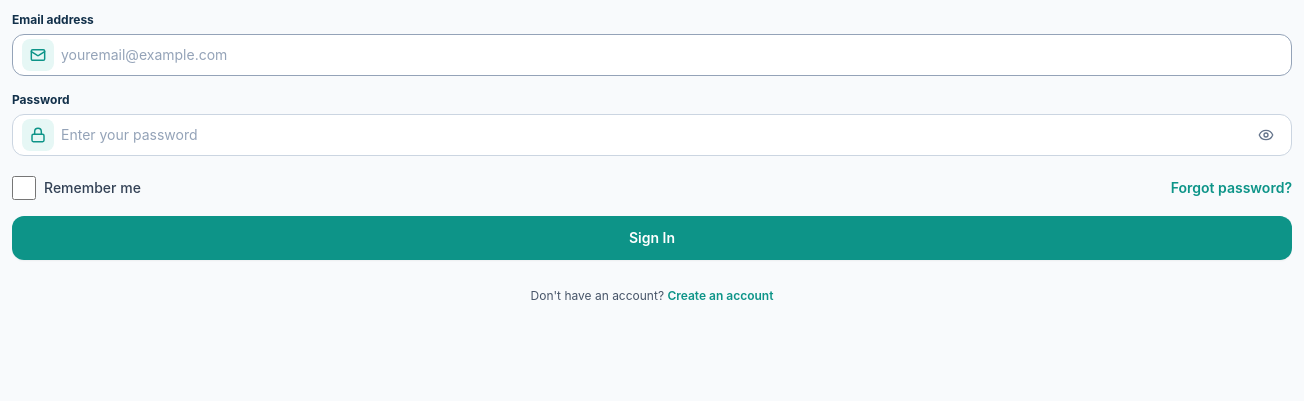
Test: LoginForm Component › displays error alert on invalid credentials
The width and height of the screenshot is (1304, 401).
Check: the button "Sign In" is enabled, box [12,216,1292,260]
Type "patient.juan@example.com" into the field named "email" at (652, 55), box [12,34,1292,76]
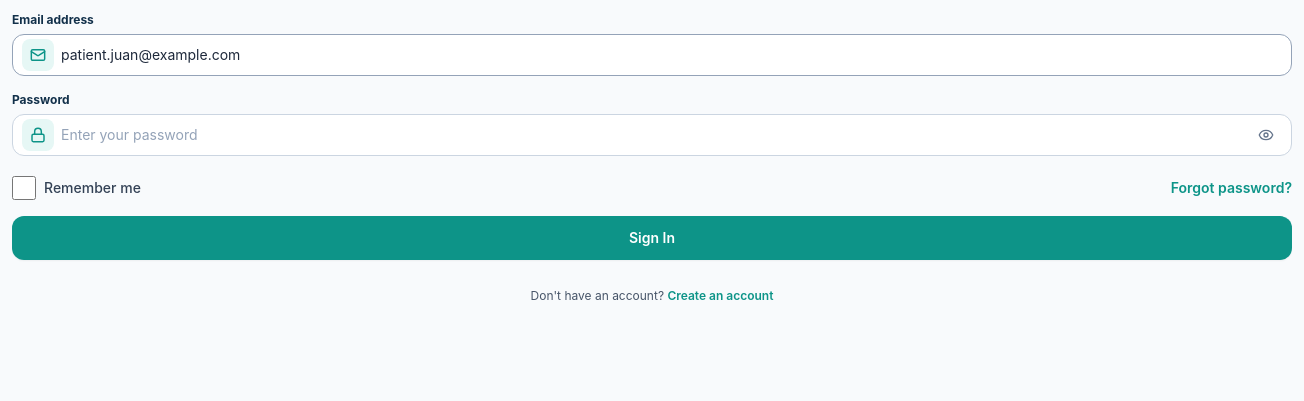
Type "WrongPassword!" into the password field named "password" at (652, 135), box [12,114,1292,156]
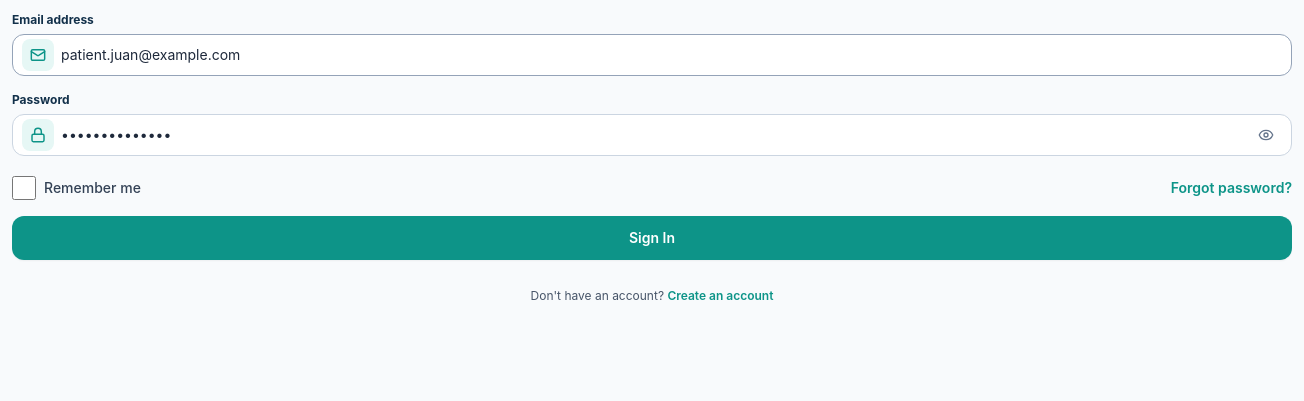
Click the button "Sign In" at (652, 238), box [12,216,1292,260]
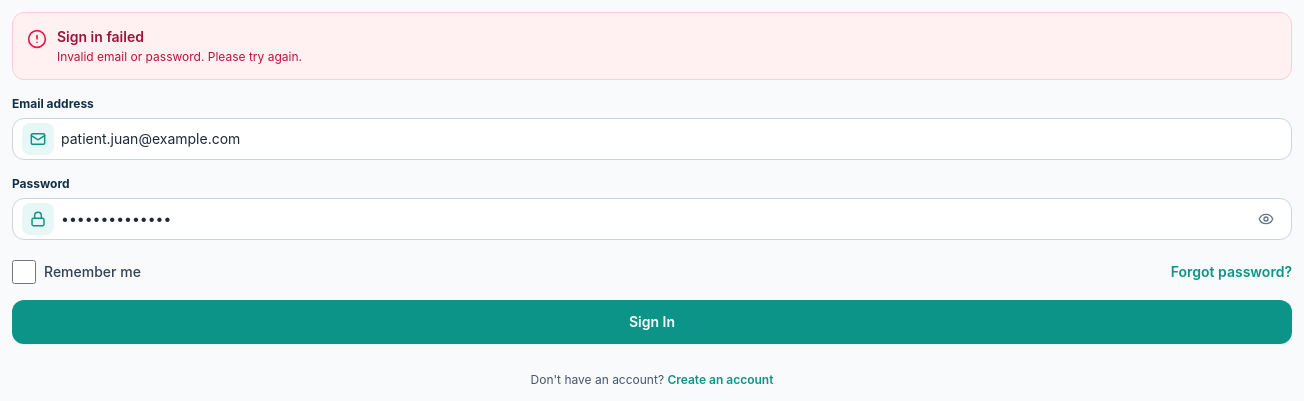
Check: the message "Sign in failed Invalid email or password. Please try again." is shown, box [12,12,1292,80]
Check: the text "Invalid email or password. Please try again." is shown, box [57,49,302,64]
